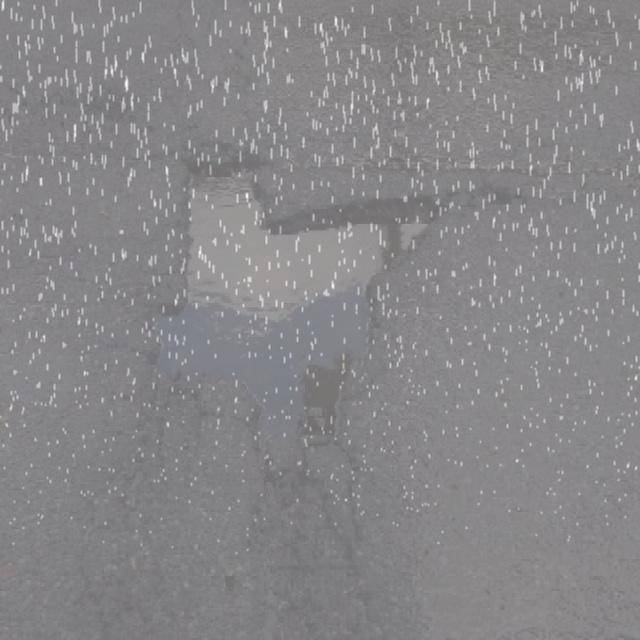Pothole: (128, 130, 469, 595)
